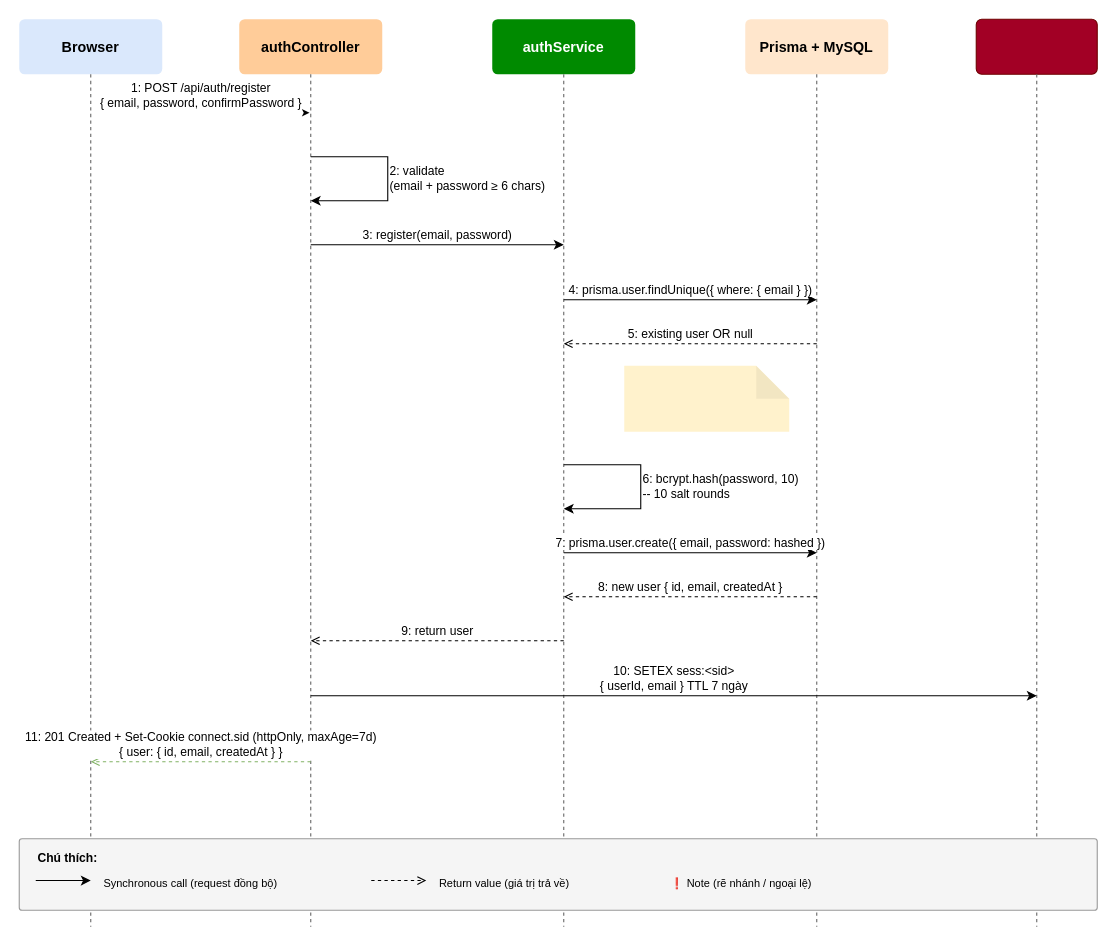
Some shapes in this 1117 by 947 pixel diagram are drawn without their labels. The box of each missing label's shape, as (x1, y1, x2, y2) in pixels:
Redis: (975, 18, 1097, 74)
❗ Nếu tồn tại: throw { status: 409, message: 'Email đã tồn tại' }: (624, 365, 789, 431)
